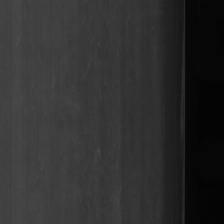silk_spot: (81, 131, 128, 196), (73, 42, 113, 97)
